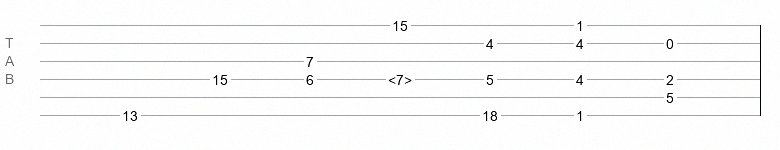0: (666, 36, 674, 46)
1: (576, 18, 584, 28), (576, 108, 584, 118)
13: (122, 108, 138, 118)
15: (212, 72, 228, 82), (392, 18, 408, 28)
18: (482, 108, 498, 118)
2: (666, 72, 674, 82)
4: (486, 36, 494, 46), (576, 72, 584, 82), (576, 36, 584, 46)
5: (486, 72, 494, 82), (666, 90, 674, 100)
6: (306, 72, 314, 82)
7: (306, 54, 314, 64)
harmonic: (388, 72, 412, 82)
